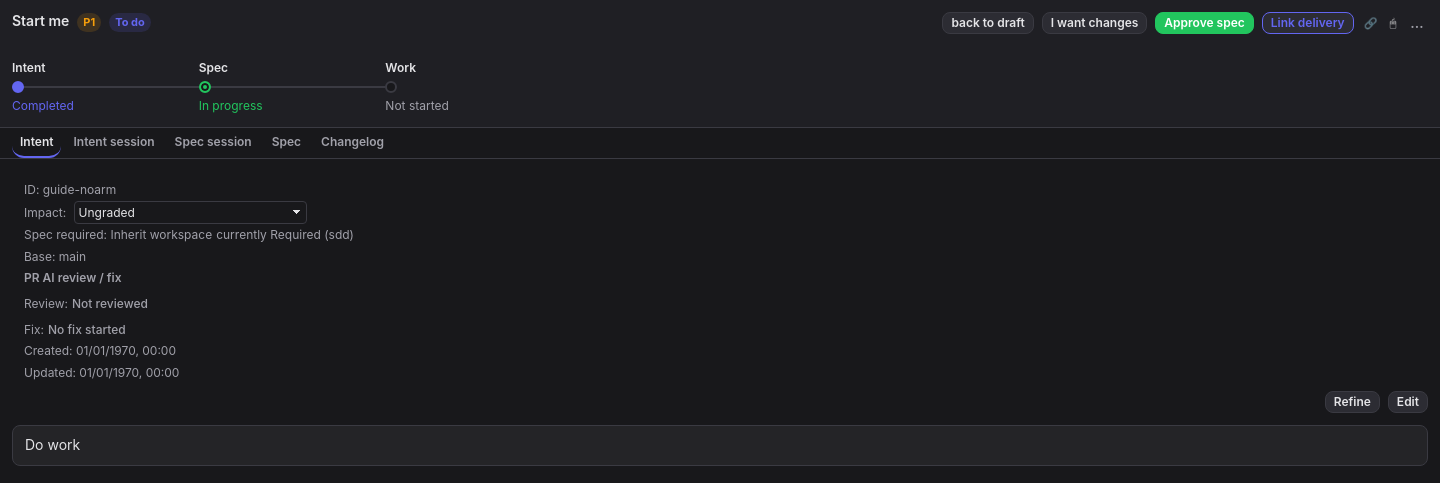
IntentDetail.vue — spec action guidance (auto-switch + approve gate + colors) › gate not armed when writeSpec was never clicked → spec approve visible immediately
The width and height of the screenshot is (1440, 483).
Click the button "Approve spec". click: point(1204, 23)
box: [1155,12,1254,34]
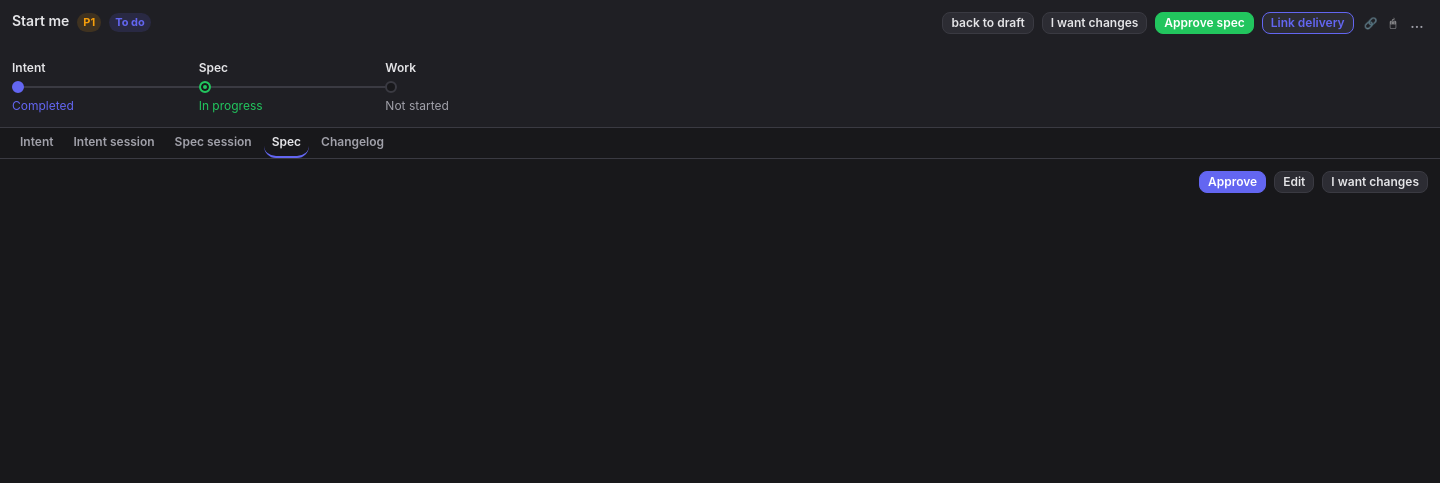
Now the button with test id "intent-detail-spec-approve" is shown, box [1199,171,1266,193]
